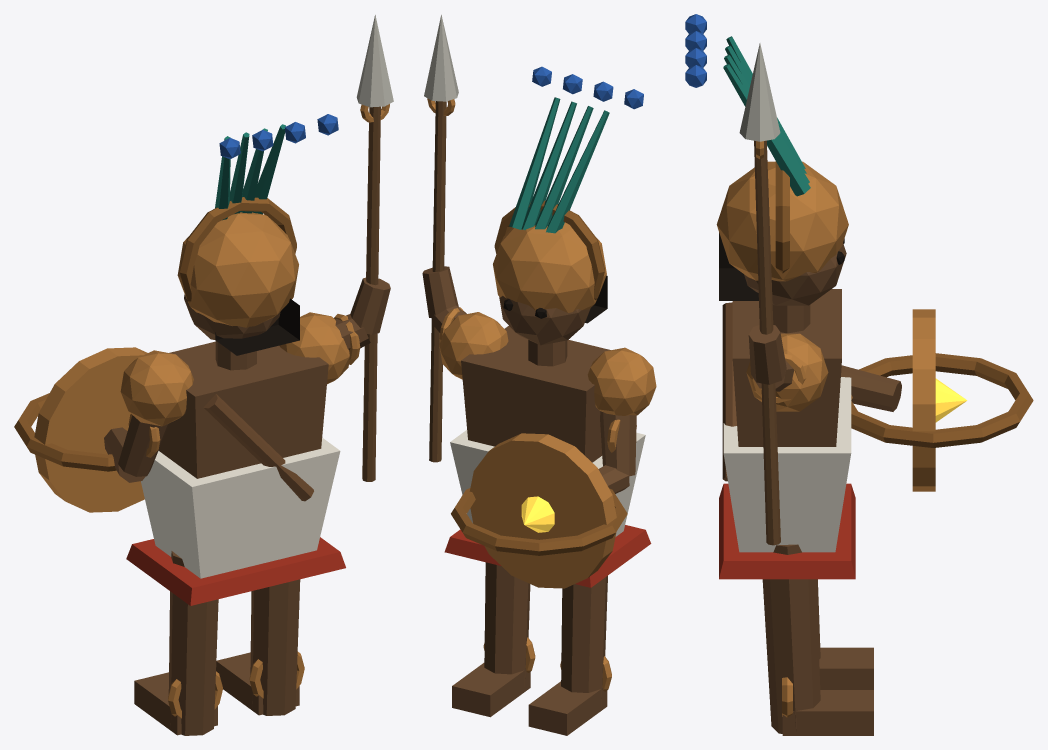
File: sangam_spearman_rig.glb
3 views of the same model, side by side, from view 1: azimuth 30°, elevation 25°; view 2: azimuth 150°, elevation 25°; view 3: azimuth 270°, elevation 25° (orthographic). The views are drawn at different scales.
Parts seen in each view (by area): view 1: body, armL, armR, legL, legR; view 2: body, armL, legL, legR, armR; view 3: body, armL, legR, armR, legL.
Part boxes in pixels (x1,y1,x2,y2): body: (120, 114, 349, 605); armL: (14, 347, 169, 512); armR: (334, 15, 393, 481); legL: (134, 551, 222, 735); legR: (216, 579, 304, 715); body: (439, 66, 656, 587); armL: (451, 411, 636, 588); legL: (528, 575, 611, 735); legR: (452, 562, 535, 717); armR: (422, 14, 466, 462); body: (685, 14, 855, 579); armL: (841, 309, 1033, 491); legR: (762, 544, 873, 735); armR: (739, 43, 805, 545); legL: (816, 579, 873, 689).
Bounding box in the file's own units: 0.765 × 1.76 × 0.7638.
